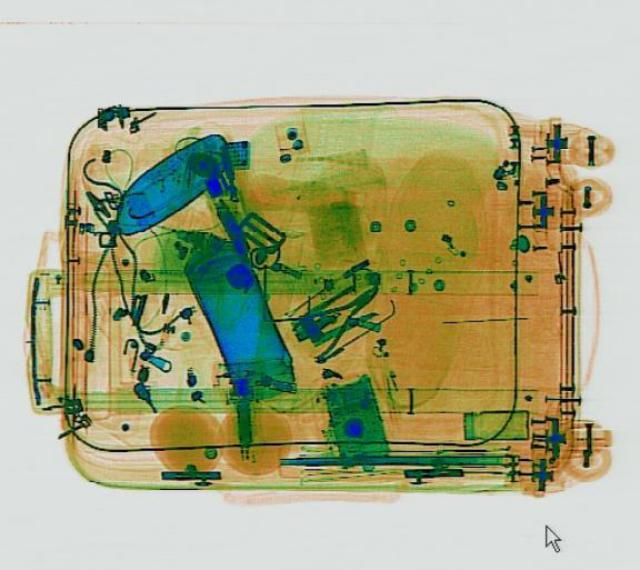Pliers: (280, 270, 392, 359)
